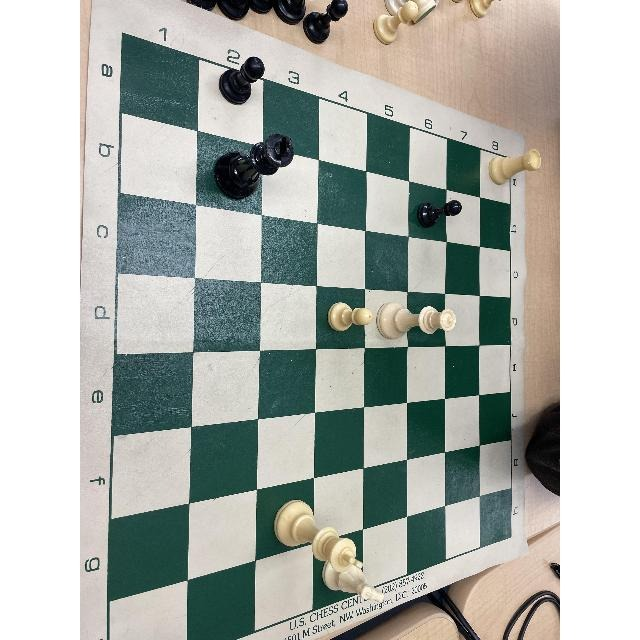black-king: (213, 134, 299, 210)
black-pawn: (213, 53, 264, 106), (416, 197, 466, 231)
white-king: (274, 498, 365, 572)
white-knight: (320, 555, 388, 607)
white-pawn: (325, 301, 375, 337)
white-queen: (377, 299, 457, 341)
white-rook: (488, 147, 544, 186)
